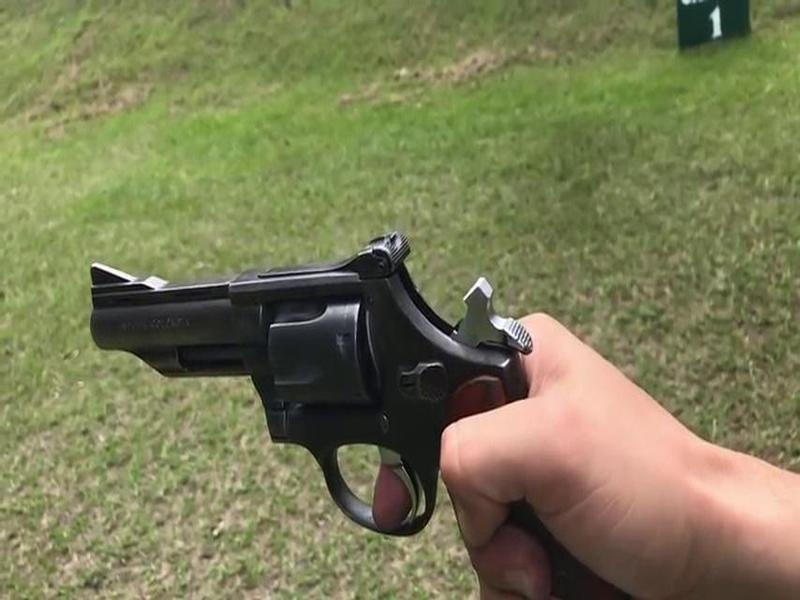Revolver: (79, 211, 546, 546)
